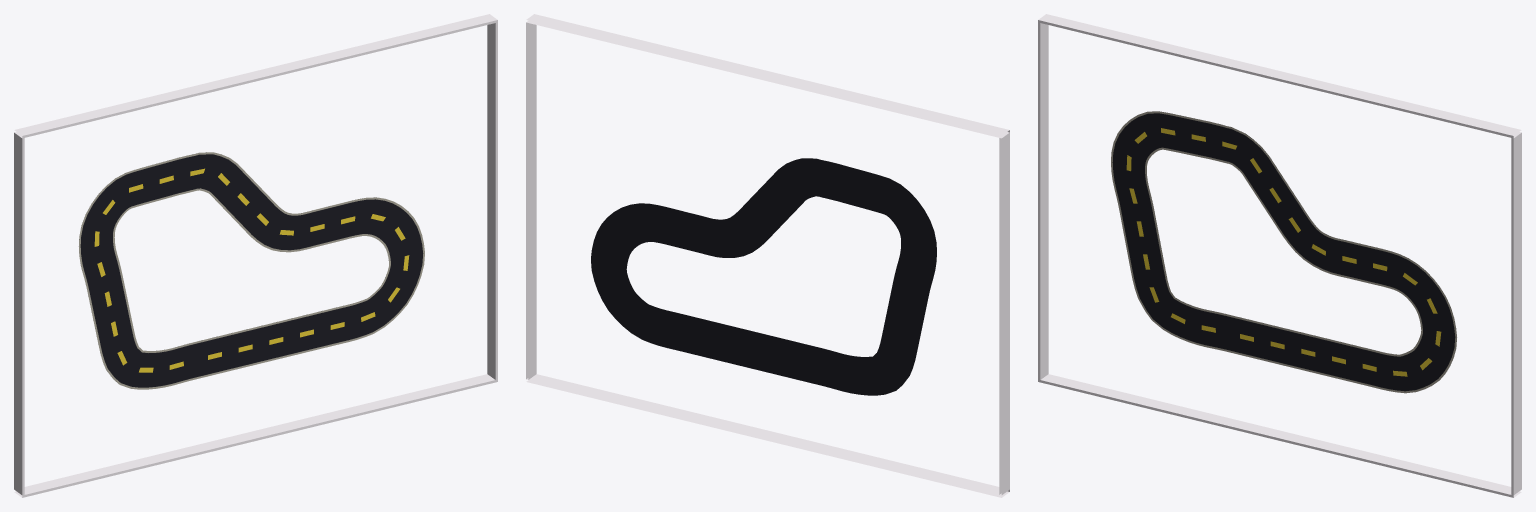
Rendered from track.obj.
3 views of the same model, side by side, from view 1: azimuth 30°, elevation 25°; view 2: azimuth 150°, elevation 25°; view 3: azimuth 330°, elevation 25° (orthographic).
Size of the model in its own units: 10.08 by 7.33 by 0.3.
